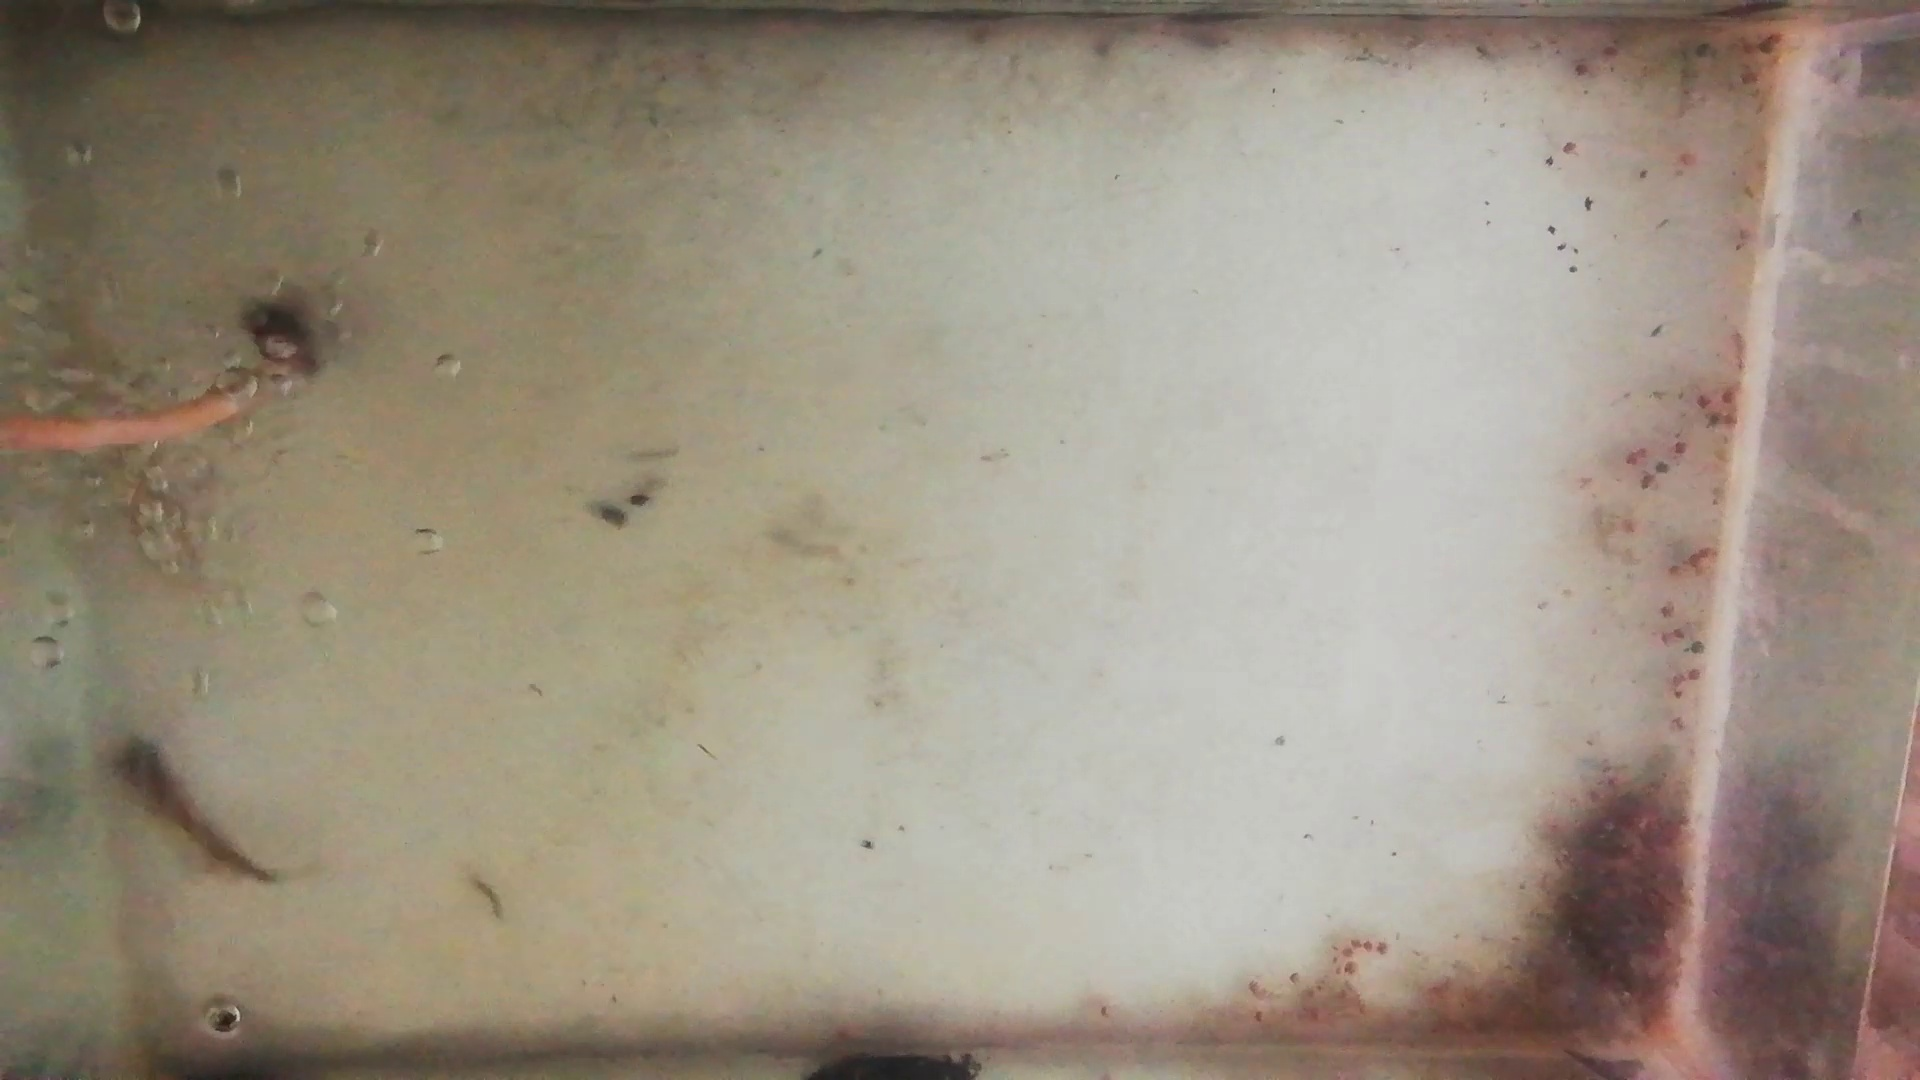fish: (117, 733, 262, 880)
